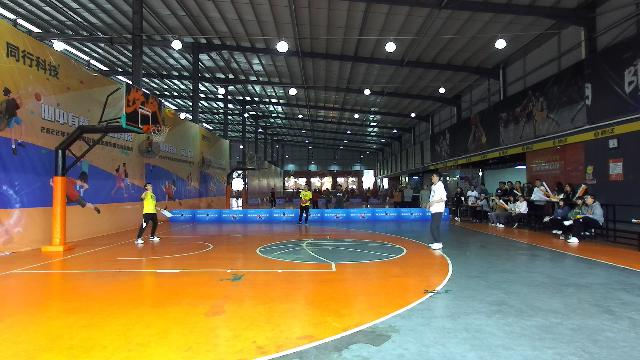ball: (166, 107, 174, 117), (302, 198, 306, 204)
basket: (150, 124, 170, 140)
